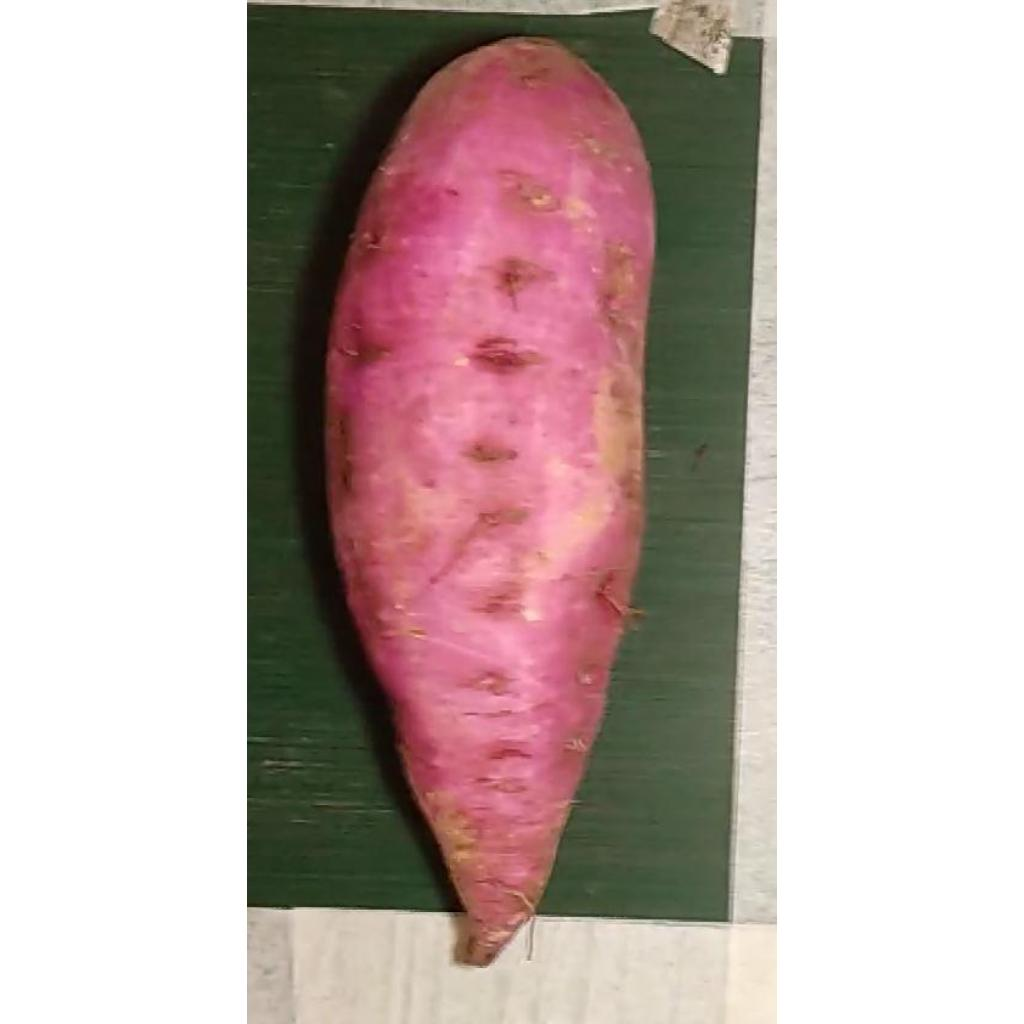Sweet Potato: (325, 38, 657, 970)
